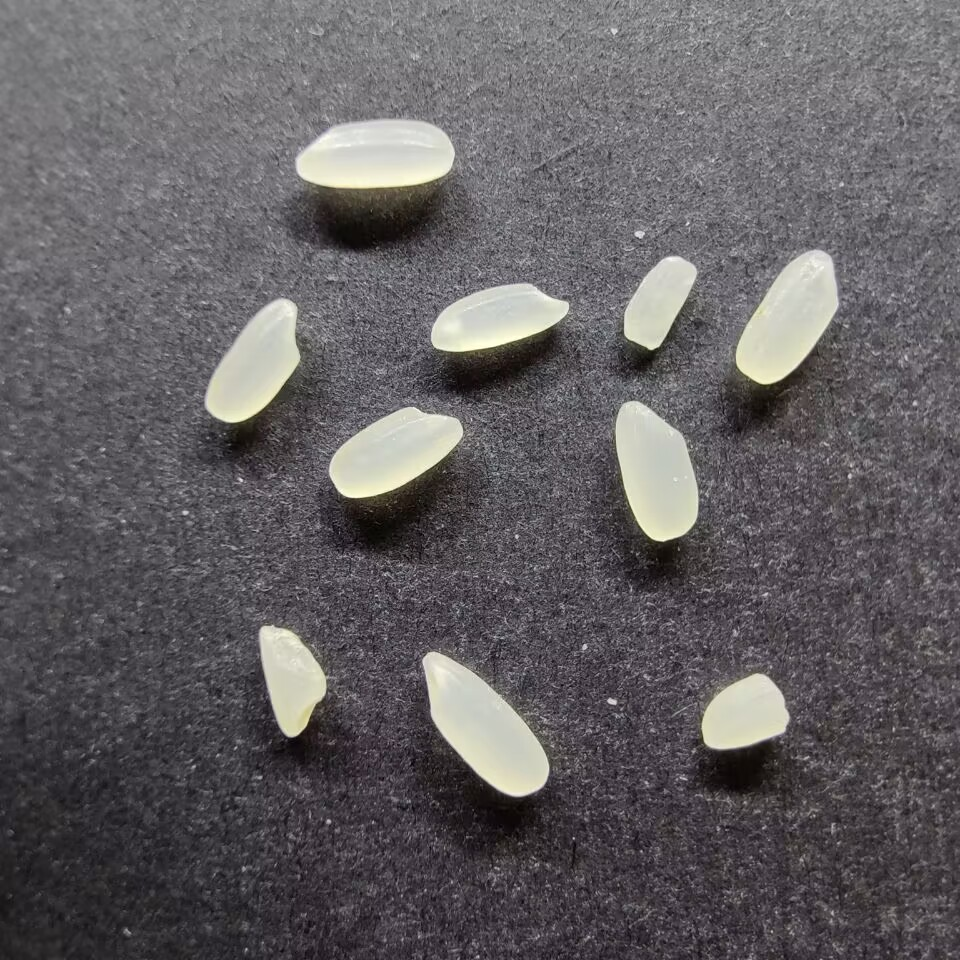broken: (257, 623, 329, 738), (621, 253, 698, 354), (699, 672, 792, 753)
rice: (420, 649, 551, 798), (733, 248, 841, 386), (326, 404, 462, 499), (202, 296, 301, 424), (613, 399, 700, 542), (294, 118, 454, 190), (428, 280, 570, 352)
